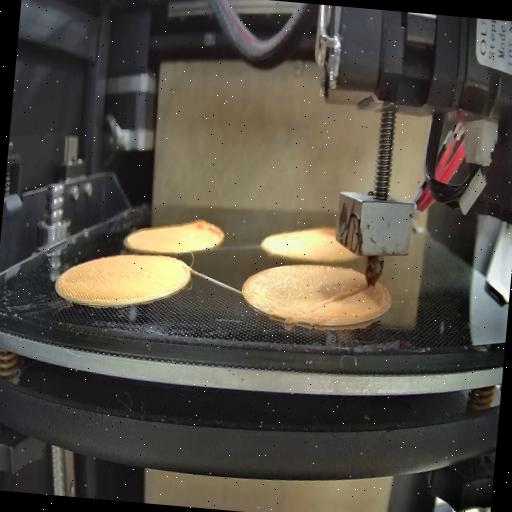over_extrusion: (308, 278, 370, 322), (188, 212, 228, 245)
